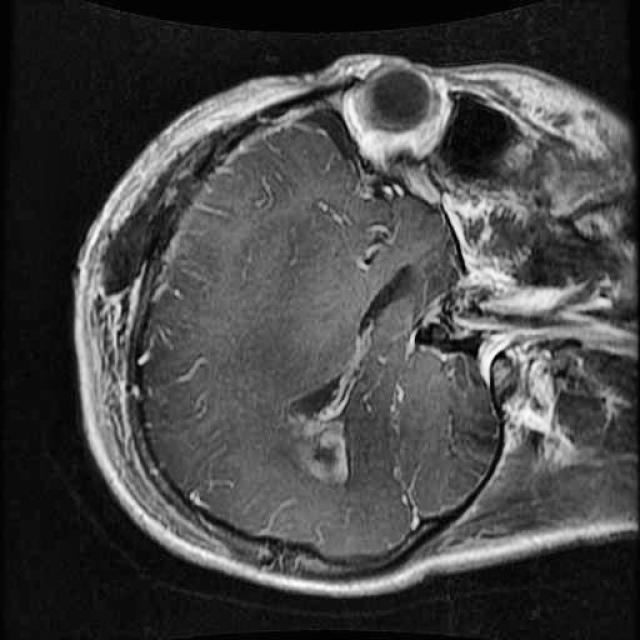Tumor: (274, 244, 436, 496)
